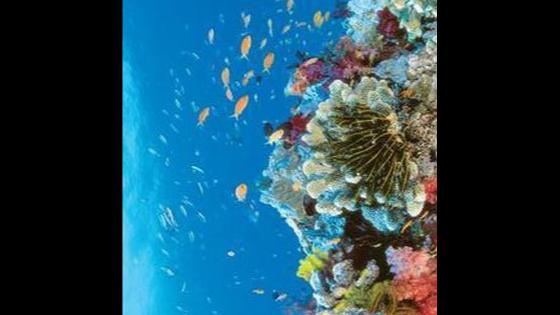bleached_corals: (245, 138, 324, 240), (286, 147, 370, 225), (373, 28, 438, 108), (312, 71, 397, 120), (348, 0, 438, 44), (301, 124, 326, 147)
